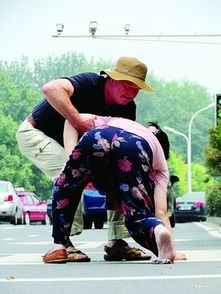falling: (43, 111, 197, 266)
